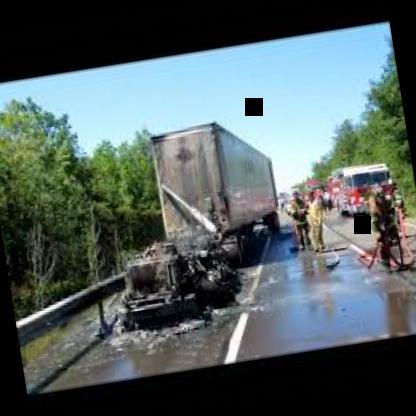accident: (82, 100, 308, 356)
